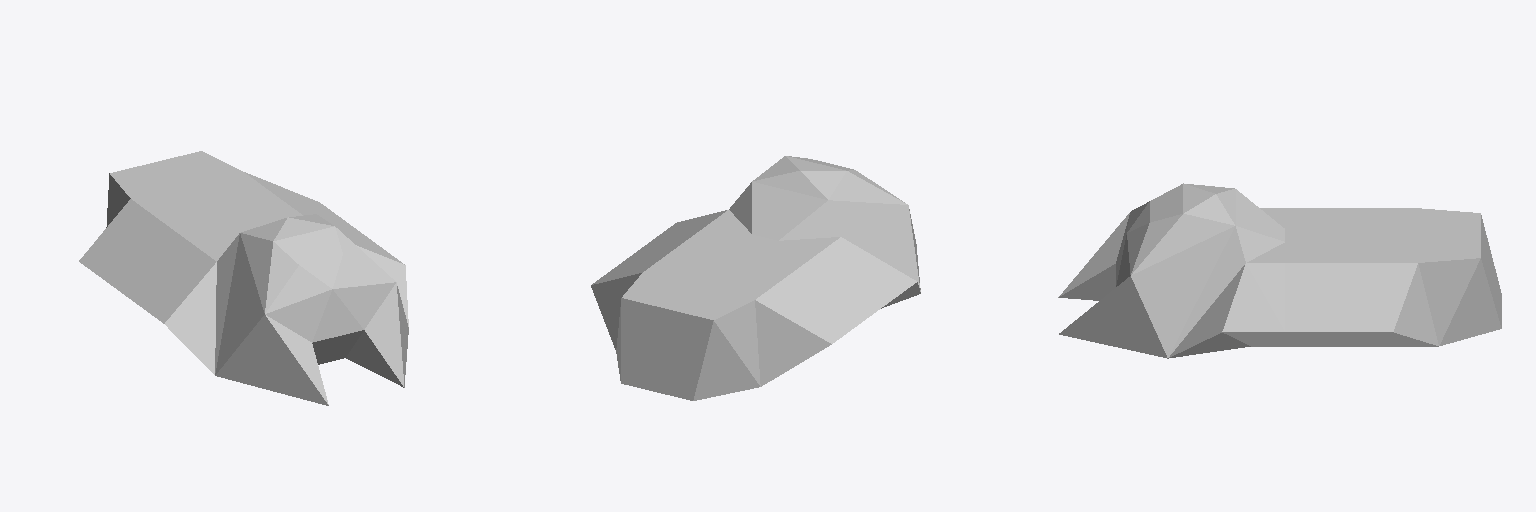
3 renders of one model, left to right at view 1: azimuth 30°, elevation 25°; view 2: azimuth 150°, elevation 25°; view 3: azimuth 270°, elevation 25°, orthographic.
Parts seen in each view (by area): view 1: Box01_sep12; view 2: Box01_sep12; view 3: Box01_sep12.
Boxes of the visible parts, <box> form: Box01_sep12: <box>79,151,408,405</box>; Box01_sep12: <box>591,156,920,400</box>; Box01_sep12: <box>1058,183,1501,358</box>.
Size of the model in its own units: 3.34 by 1.64 by 5.31.